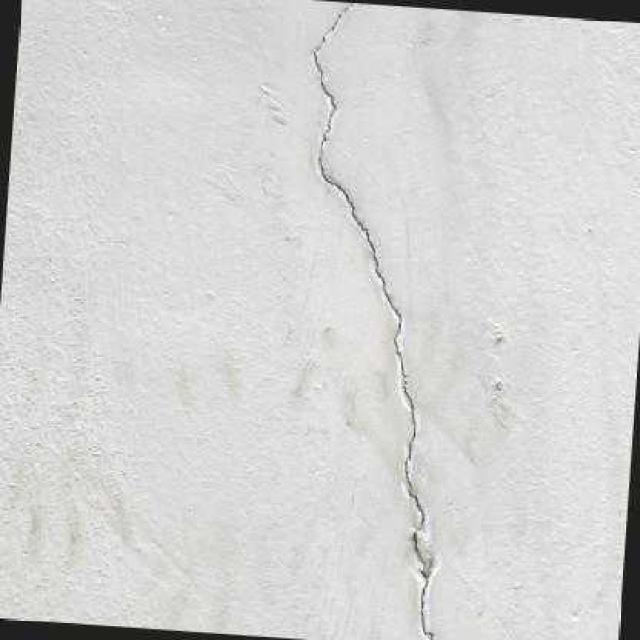D00: (313, 50, 425, 552), (317, 1, 357, 50), (419, 570, 433, 640)
